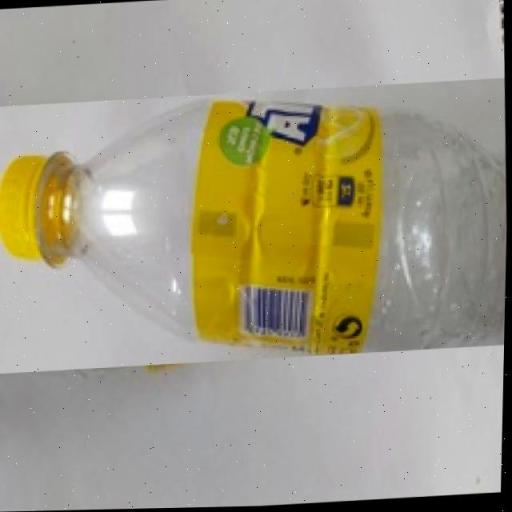plastic: (0, 80, 510, 373)
